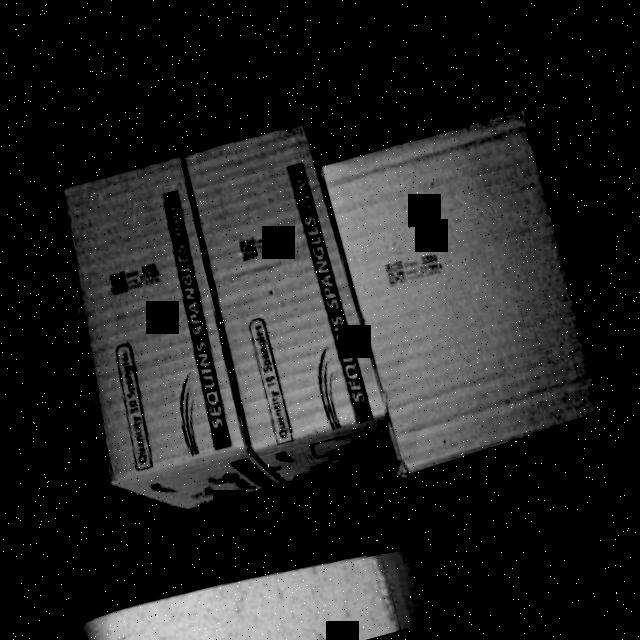box: (322, 108, 608, 474), (39, 150, 258, 480), (187, 121, 387, 446)
